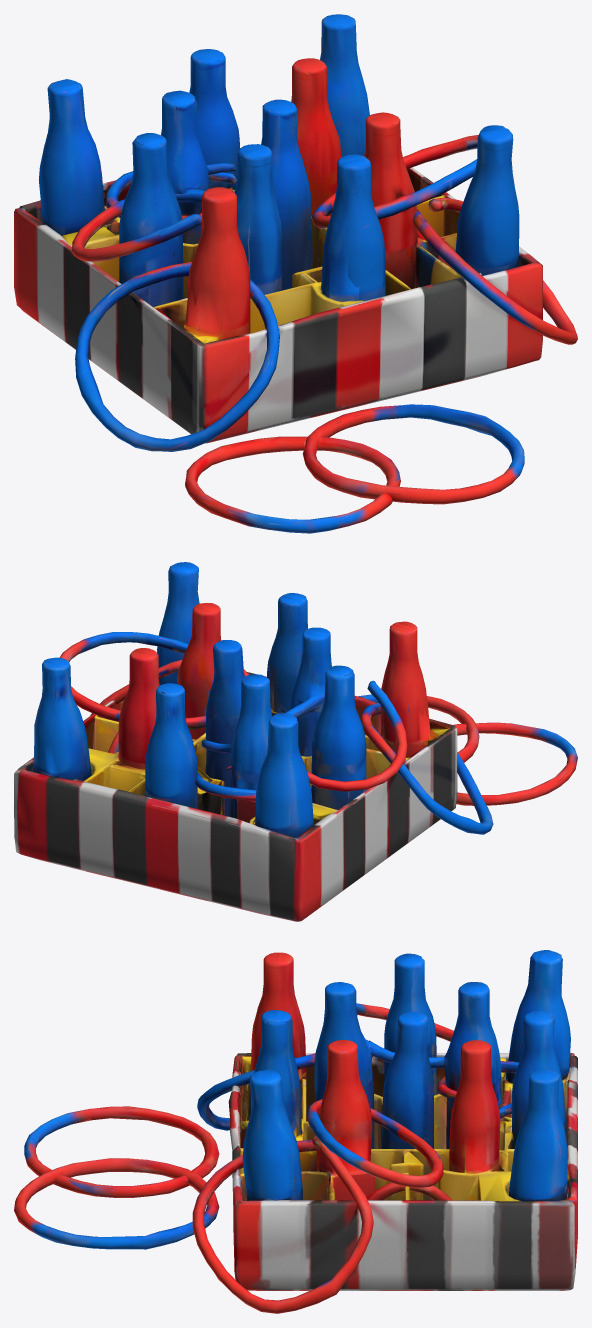
File: Ring_Toss_Game_9InchesTall_0215214857_texture.glb
3 renders of one model, top to bottom at view 1: azimuth 30°, elevation 25°; view 2: azimuth 150°, elevation 25°; view 3: azimuth 270°, elevation 25°, orthographic. The views are drawn at different scales.
Visible parts, largest first — view 1: Mesh_0.001; view 2: Mesh_0.001; view 3: Mesh_0.001.
Boxes of the visible parts, bbox=[...] form: Mesh_0.001: bbox=[14, 14, 577, 533]; Mesh_0.001: bbox=[14, 562, 577, 921]; Mesh_0.001: bbox=[14, 950, 577, 1313].
Bounding box in the file's own units: 0.4778 × 0.2286 × 0.5555.
1 material, 1 textured.
